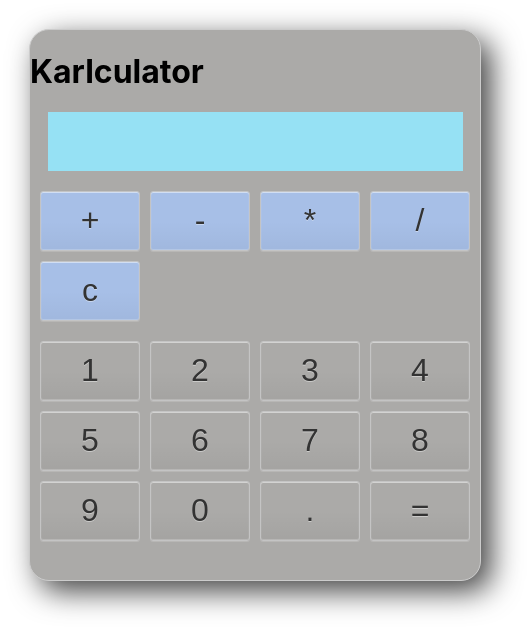
Test: should display 3 when the user enters 6 / 2
This screenshot has width=531, height=631.
What coordinates should you click on to do the following:
click the button "6"
I would click on:
 (200, 441)
Its box is left=150, top=411, right=250, bottom=471.
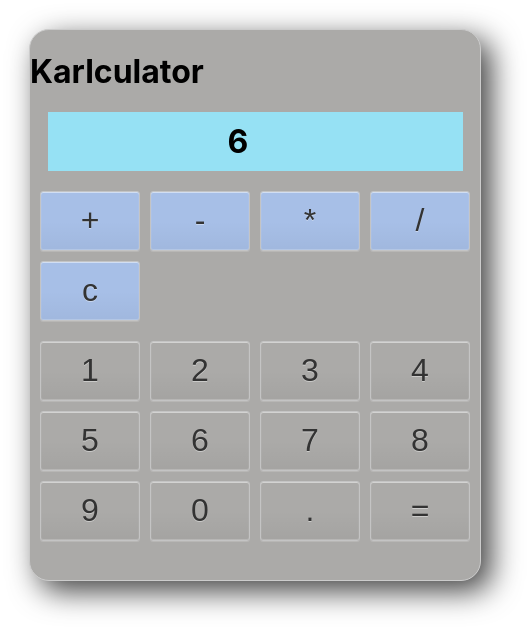
What coordinates should you click on to do the following:
click the button "/"
I would click on:
 (420, 221)
Its box is left=370, top=191, right=470, bottom=251.
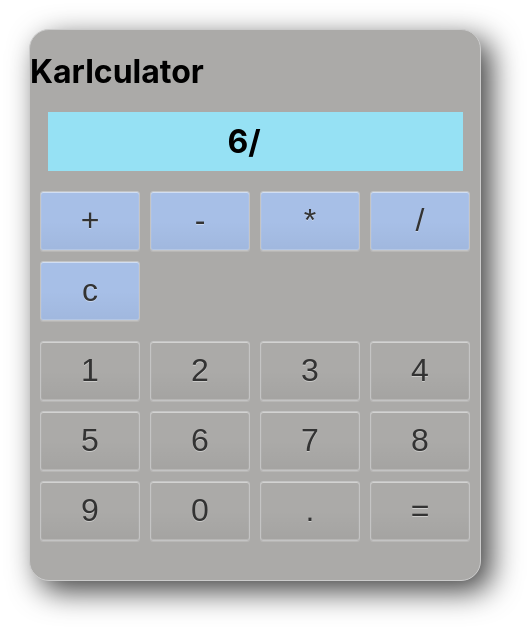
What coordinates should you click on to do the following:
click the button "2"
I would click on:
 (200, 371)
Its box is left=150, top=341, right=250, bottom=401.
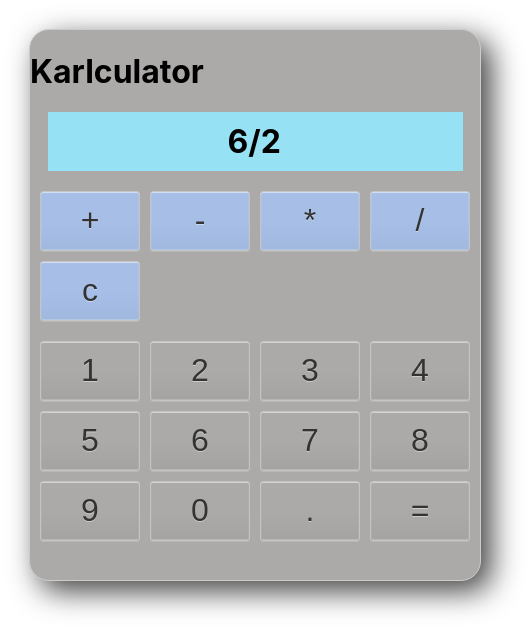
What coordinates should you click on to do the following:
click the button "="
I would click on:
 (420, 511)
Its box is left=370, top=481, right=470, bottom=541.
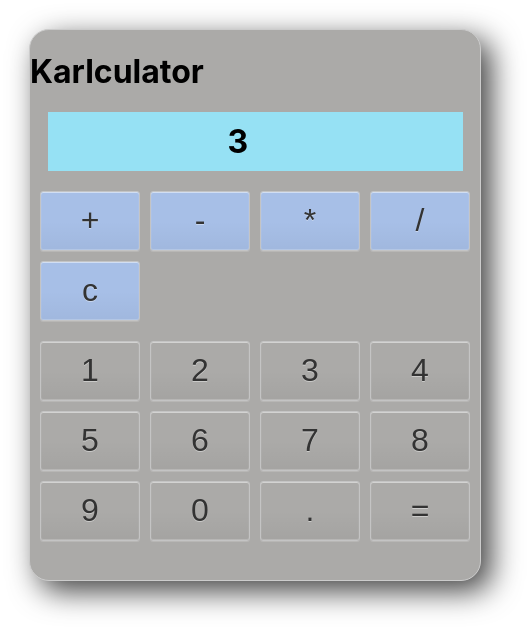
expect the heading with test id "display" reads "3": met, box left=228, top=122, right=248, bottom=161
